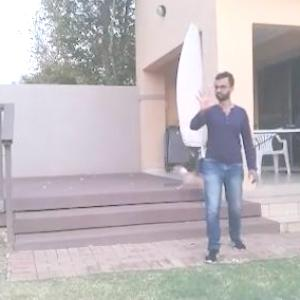follow_hand: (190, 81, 222, 113)
